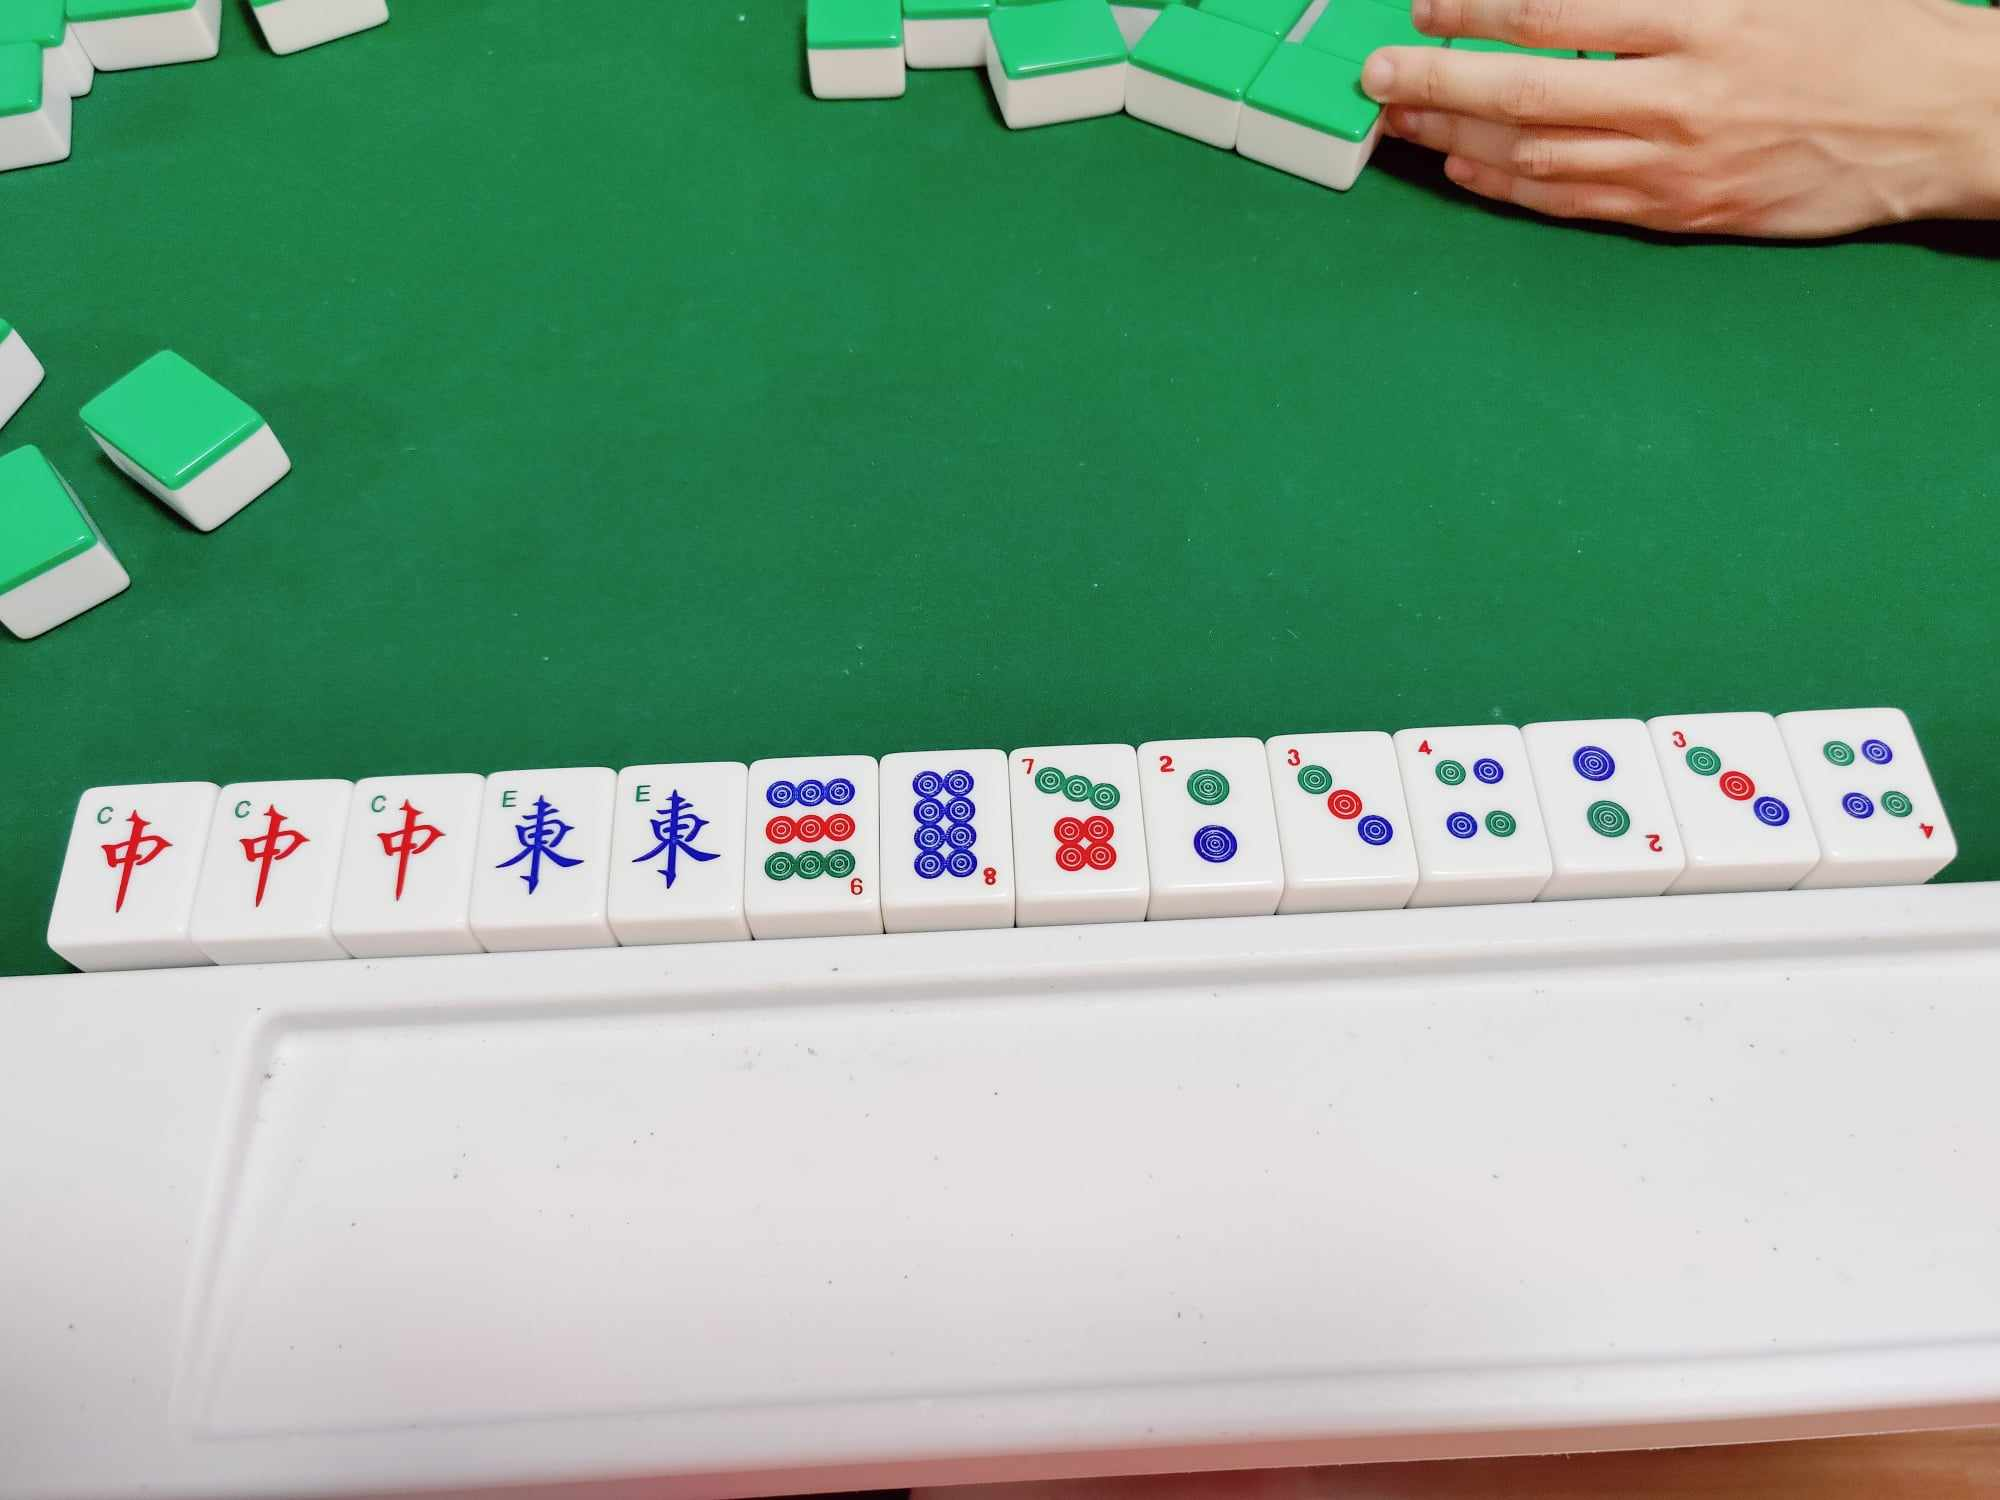circle-eight: (898, 761, 1003, 895)
circle-four: (1413, 730, 1524, 863), (1816, 730, 1937, 852)
circle-nine: (754, 766, 869, 898)
circle-seven: (1019, 750, 1131, 886)
circle-three: (1671, 722, 1795, 851), (1279, 742, 1398, 870)
circle-two: (1546, 734, 1668, 865), (1148, 747, 1258, 879)
honor-east_wind: (483, 778, 602, 911), (620, 772, 735, 908)
honor-red_dragon: (217, 791, 321, 926), (83, 789, 183, 930), (359, 785, 460, 919)
